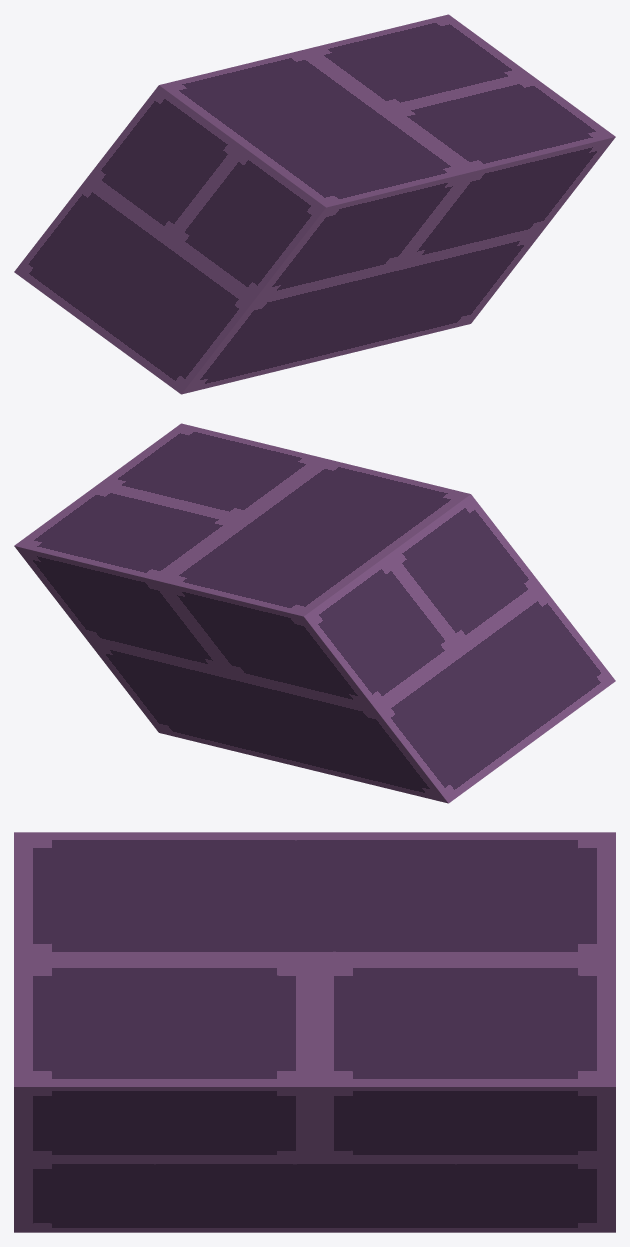
File: AngledCube - Simple.dae
3 renders of one model, top to bottom at view 1: azimuth 30°, elevation 25°; view 2: azimuth 150°, elevation 25°; view 3: azimuth 270°, elevation 25°, orthographic. The views are drawn at different scales.
Visible parts, largest first — view 1: AngledCube - Simple; view 2: AngledCube - Simple; view 3: AngledCube - Simple.
Part boxes in pixels (bbox=[...]): AngledCube - Simple: bbox=[14, 14, 615, 394]; AngledCube - Simple: bbox=[14, 423, 615, 803]; AngledCube - Simple: bbox=[14, 832, 615, 1232].
Size of the model in its own units: 1.5 by 1 by 0.5.
